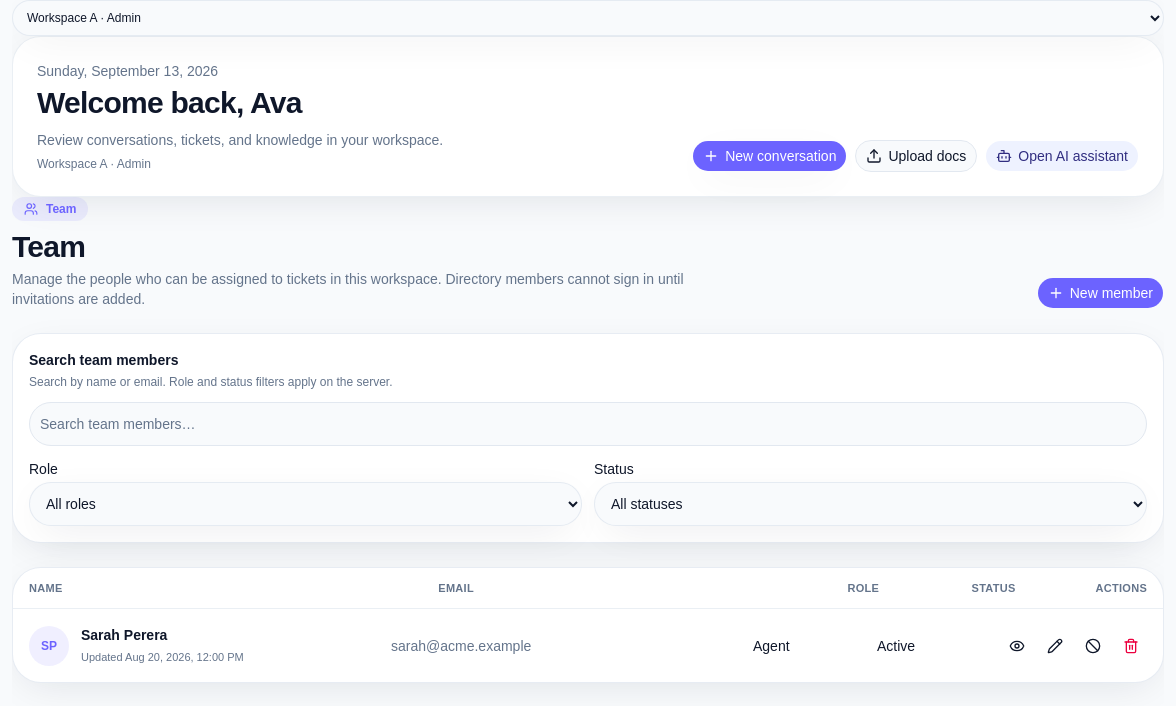
workspace selector › updates role-aware UX after switching between ADMIN and AGENT workspaces
The width and height of the screenshot is (1176, 706).
Expected: the button "New member" is shown, [1037,277,1164,309]
Expected: the link "Upload docs" is shown, [855,140,977,172]
Select "Workspace B · Agent" in the dropdown named "Workspace" at (588, 18), box [12,0,1164,36]
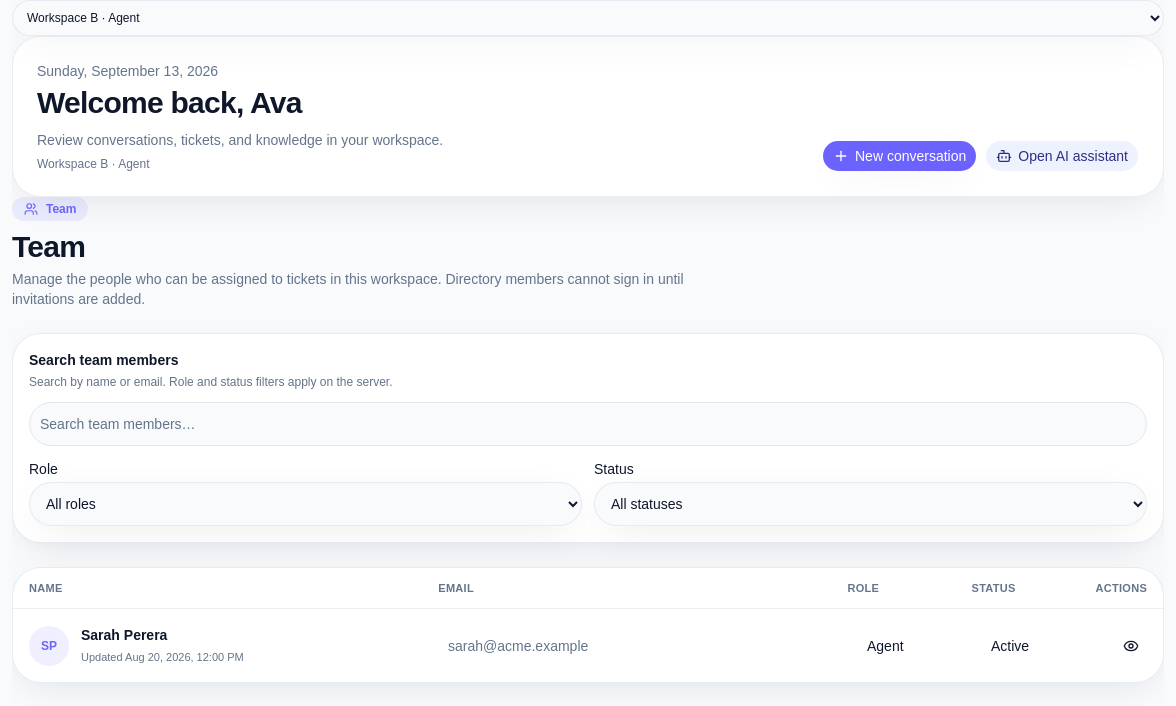
Expected: the link "New conversation" is shown, [822,140,977,172]
Expected: the button "New member" is gone
Expected: the link "Upload docs" is gone
Select "Workspace A · Admin" in the dropdown named "Workspace" at (588, 18), box [12,0,1164,36]
(page scrolled)
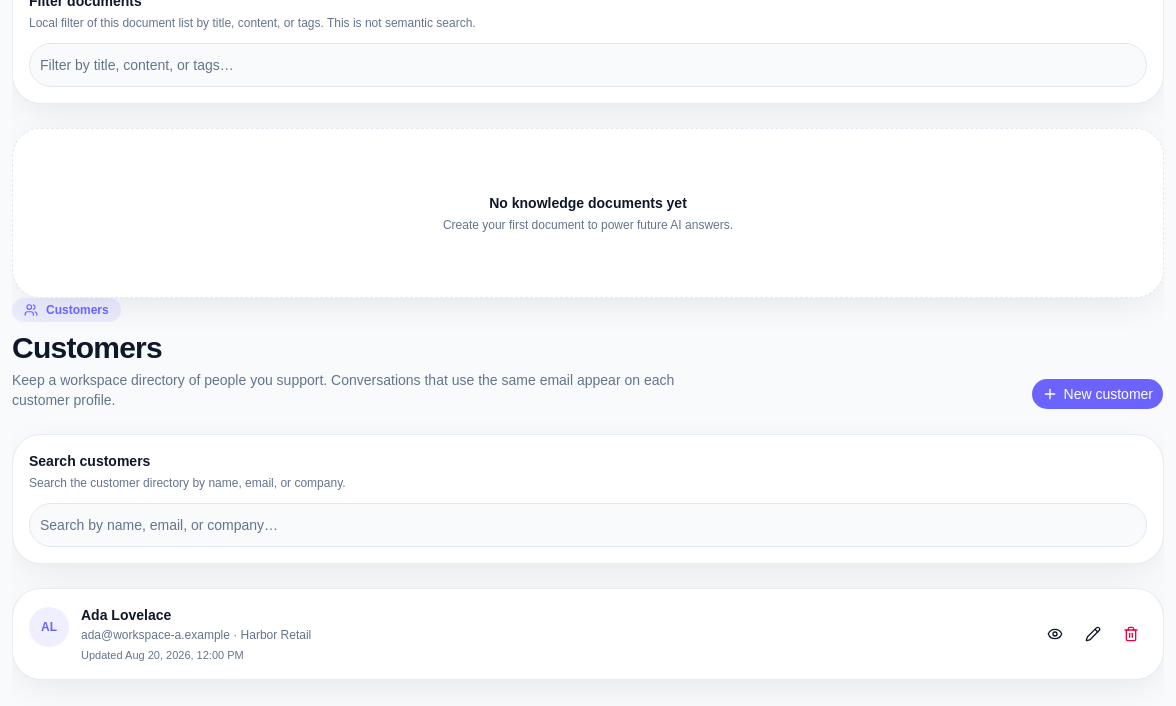
Expected: the text "Ada Lovelace" is shown, [81,607,171,623]
